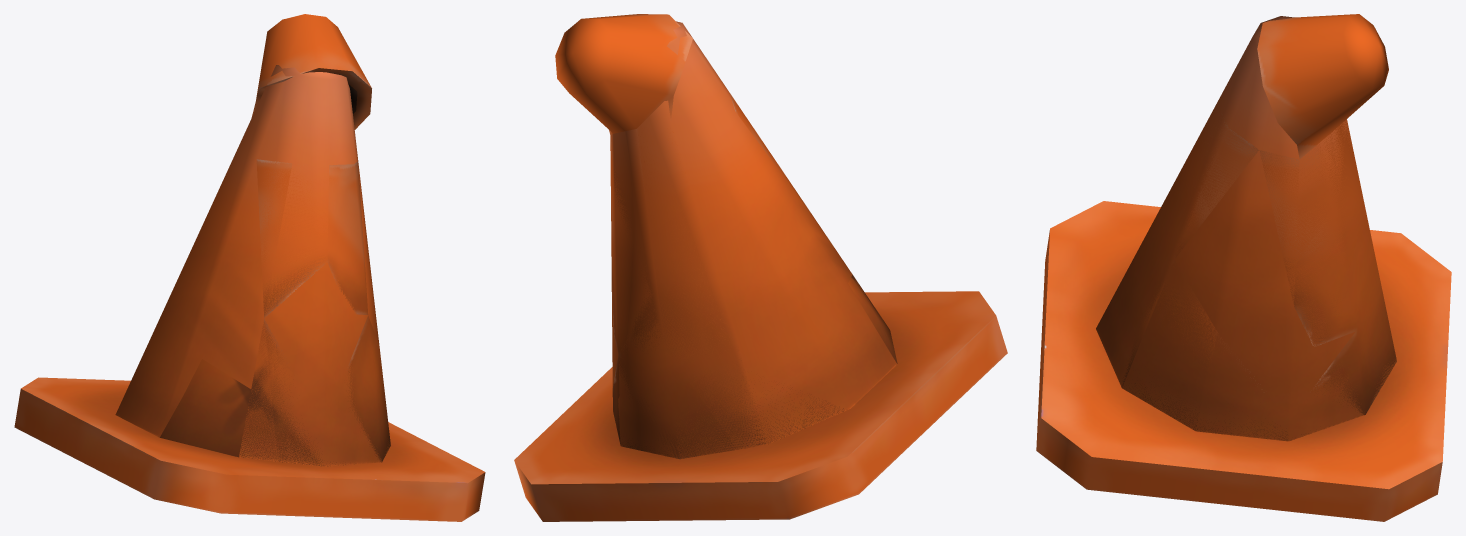
File: Zombie_ArmorCone.fbx
3 views of the same model, side by side, from view 1: azimuth 30°, elevation 25°; view 2: azimuth 150°, elevation 25°; view 3: azimuth 270°, elevation 25° (orthographic). The views are drawn at different scales.
Visible parts, largest first — view 1: Cone-Full, Cone-Half; view 2: Cone-Full, Cone-Half; view 3: Cone-Full, Cone-Half.
Part boxes in pixels (left/top/right/bottom): Cone-Full: left=14, top=65, right=485, bottom=521; Cone-Half: left=160, top=14, right=390, bottom=466; Cone-Full: left=514, top=21, right=1007, bottom=521; Cone-Half: left=555, top=14, right=897, bottom=459; Cone-Full: left=1036, top=16, right=1451, bottom=521; Cone-Half: left=1121, top=14, right=1396, bottom=440.
Size of the model in its own units: 0.536 by 0.5533 by 0.7031.
